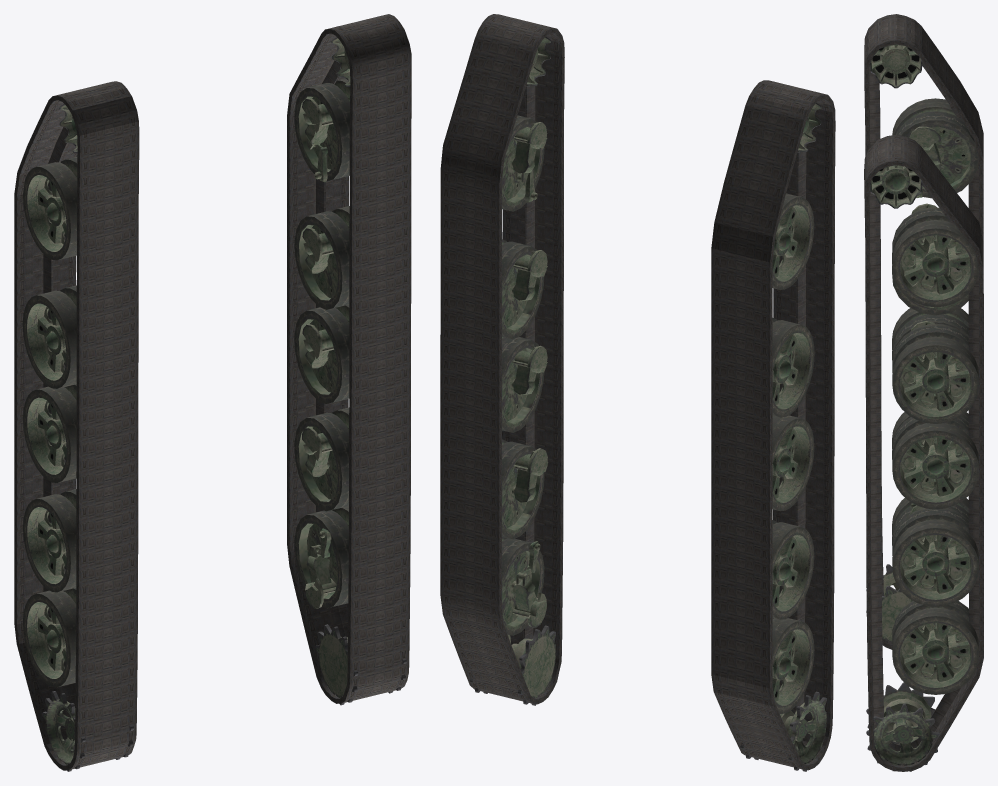
The model's file is Chassis.glb.
3 renders of one model, left to right at view 1: azimuth 30°, elevation 25°; view 2: azimuth 150°, elevation 25°; view 3: azimuth 270°, elevation 25°, orthographic. The views are drawn at different scales.
Parts seen in each view (by area): view 1: set_0_group_0, set_1_group_0, set_2_group_0, set_3_group_0; view 2: set_0_group_0, set_1_group_0, set_2_group_0, set_3_group_0; view 3: set_2_group_0, set_1_group_0, set_3_group_0, set_0_group_0.
Boxes of the visible parts, box(x1,y1,x2,y2) form: set_0_group_0: box(14, 81, 139, 770); set_1_group_0: box(287, 14, 411, 703); set_2_group_0: box(294, 37, 406, 705); set_3_group_0: box(22, 104, 134, 771); set_0_group_0: box(711, 80, 835, 770); set_1_group_0: box(440, 14, 564, 704); set_2_group_0: box(469, 36, 555, 705); set_3_group_0: box(740, 103, 826, 771); set_2_group_0: box(866, 165, 979, 771); set_1_group_0: box(864, 134, 983, 771); set_3_group_0: box(866, 44, 978, 643); set_0_group_0: box(864, 14, 983, 649).
Bounding box in the file's own units: 3.23 × 6.29 × 1.12.
4 materials, 4 textured.
